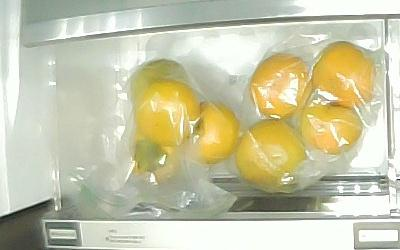persimmon_vinyl: (234, 120, 307, 189), (312, 41, 376, 109), (135, 79, 198, 147), (249, 53, 311, 119), (301, 98, 363, 154), (186, 100, 240, 164), (125, 127, 178, 184), (128, 59, 188, 102)
